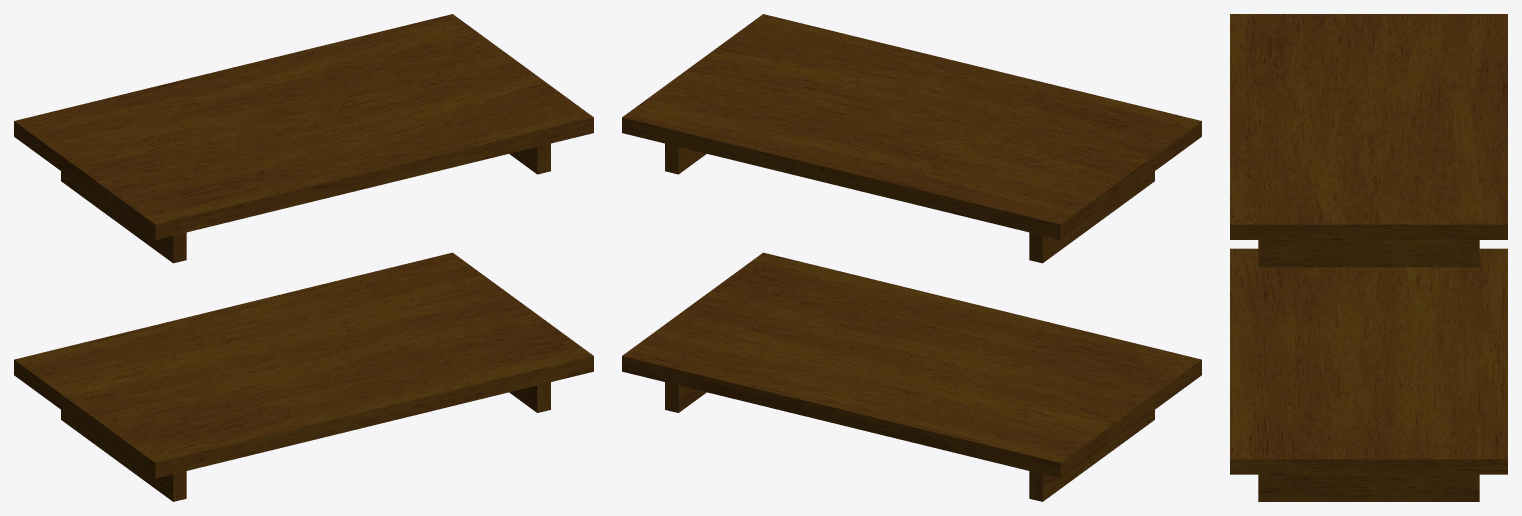
The model's file is Wood Hangers.fbx.
3 renders of one model, left to right at view 1: azimuth 30°, elevation 25°; view 2: azimuth 150°, elevation 25°; view 3: azimuth 270°, elevation 25°, orthographic.
Parts seen in each view (by area): view 1: Cube.006; view 2: Cube.006; view 3: Cube.006.
Boxes of the visible parts, x1,y1,x2,y2 form: Cube.006: (14,14,593,501); Cube.006: (622,14,1201,501); Cube.006: (1230,14,1507,501).
Size of the model in its own units: 553 by 356 by 308.
1 material, 1 textured.
